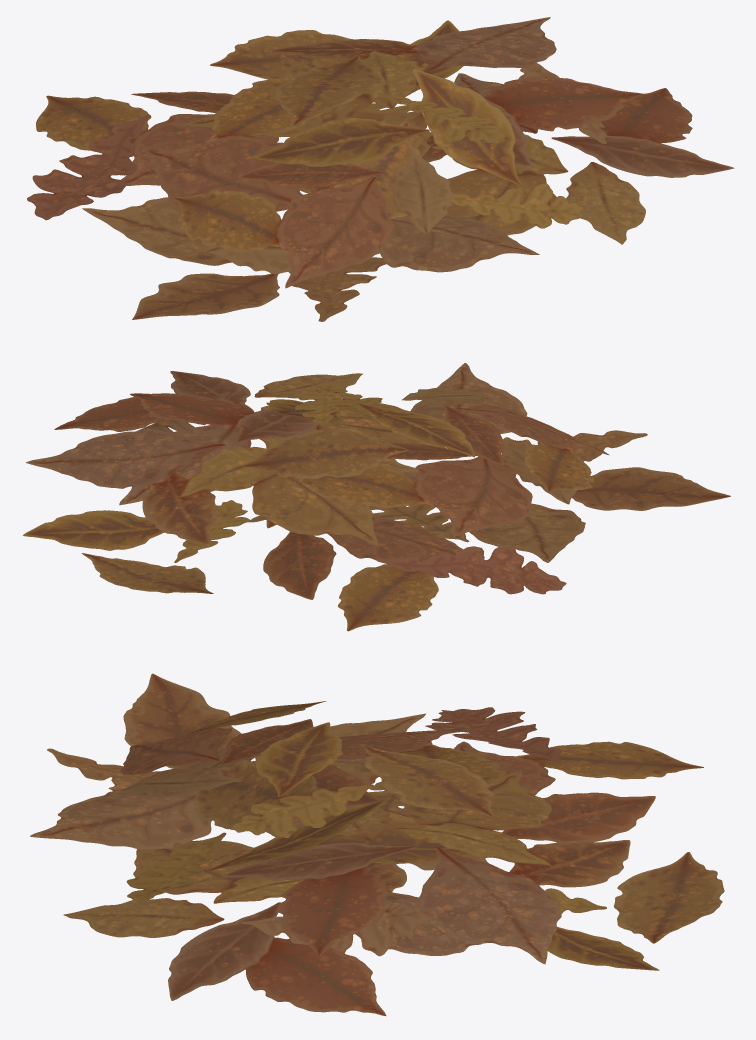
Rendered from MSH_fwOF_Leaf_Pile_01.fbx.
3 renders of one model, top to bottom at view 1: azimuth 30°, elevation 25°; view 2: azimuth 150°, elevation 25°; view 3: azimuth 270°, elevation 25°, orthographic. The views are drawn at different scales.
Visible parts, largest first — view 1: MSH_fwOF_Leaf_Pile_01; view 2: MSH_fwOF_Leaf_Pile_01; view 3: MSH_fwOF_Leaf_Pile_01.
Part boxes in pixels (<box>): MSH_fwOF_Leaf_Pile_01: <box>27,17,734,321</box>; MSH_fwOF_Leaf_Pile_01: <box>23,363,730,631</box>; MSH_fwOF_Leaf_Pile_01: <box>30,673,724,1015</box>.
Bounding box in the file's own units: 0.6629 × 0.0974 × 0.5774.
